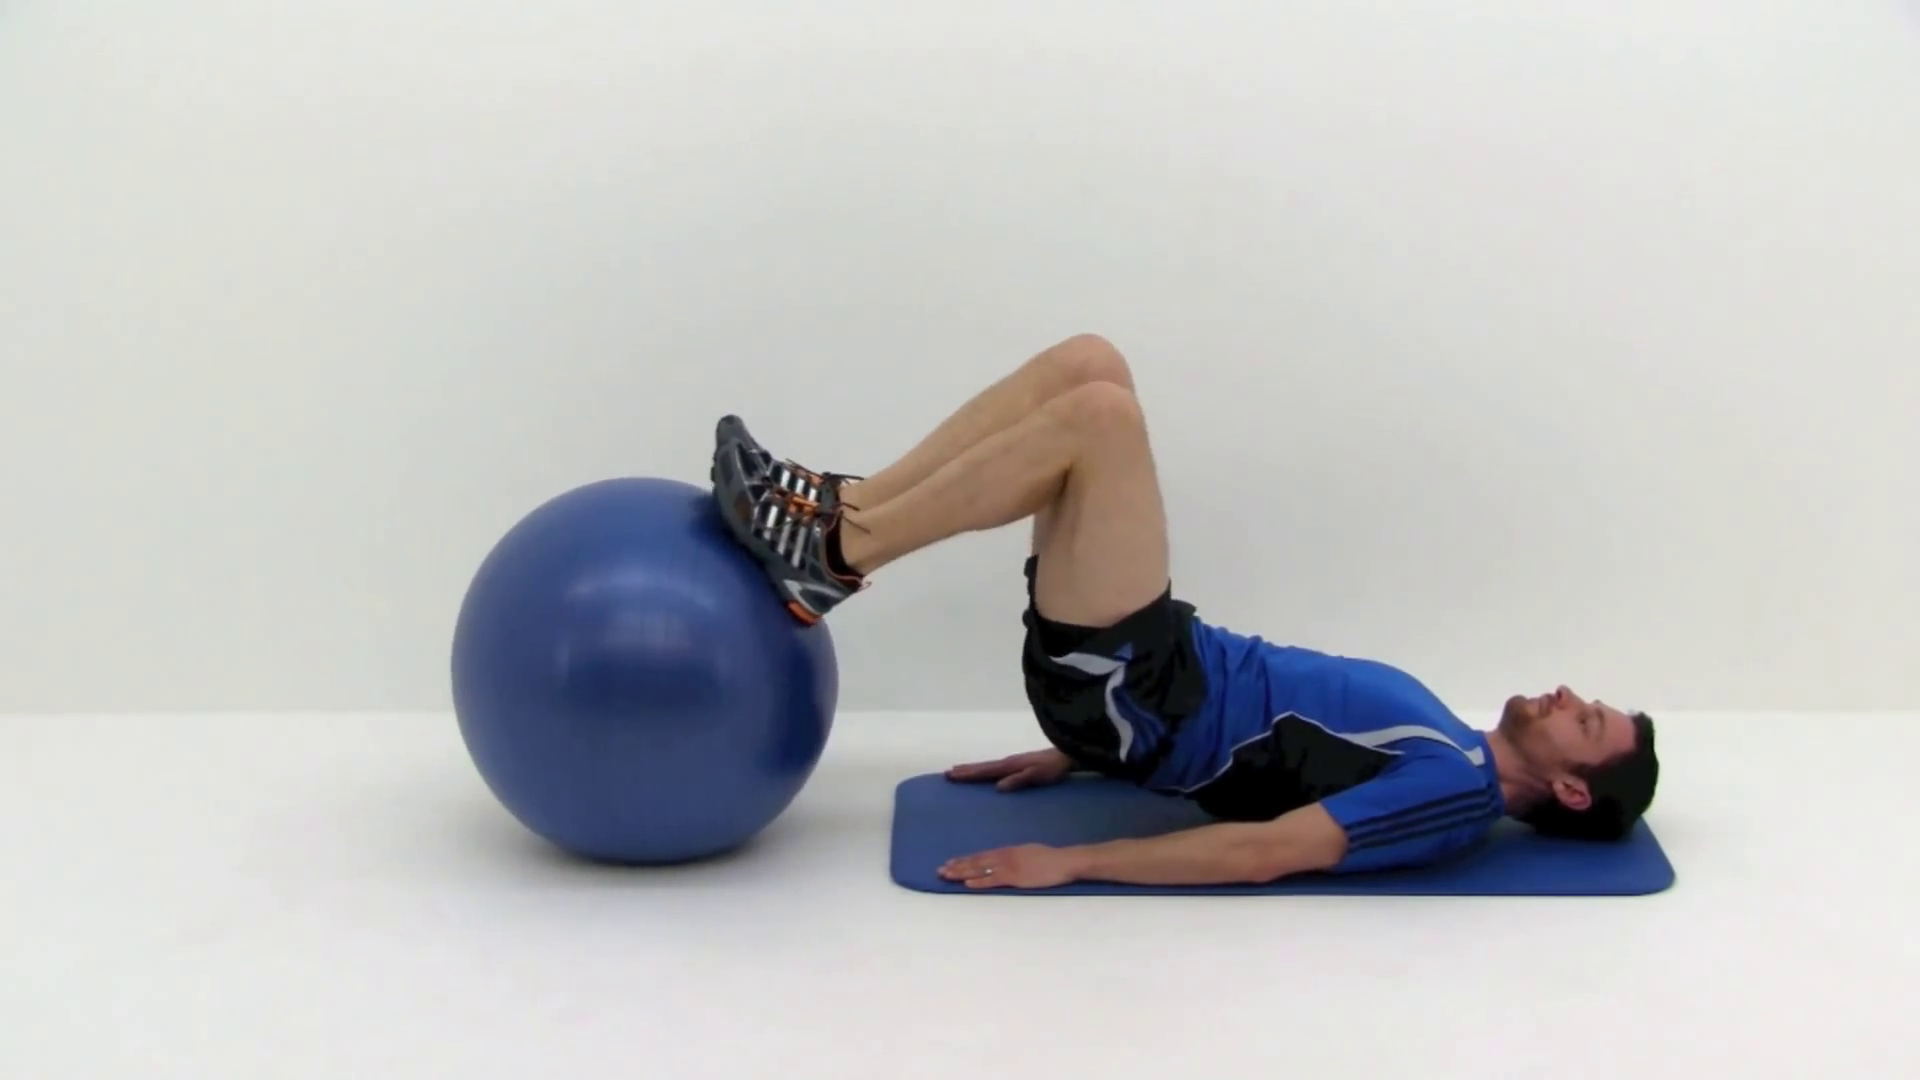yogaball: (411, 460, 881, 889)
